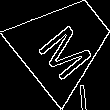M_NE: (31, 10, 97, 77)
